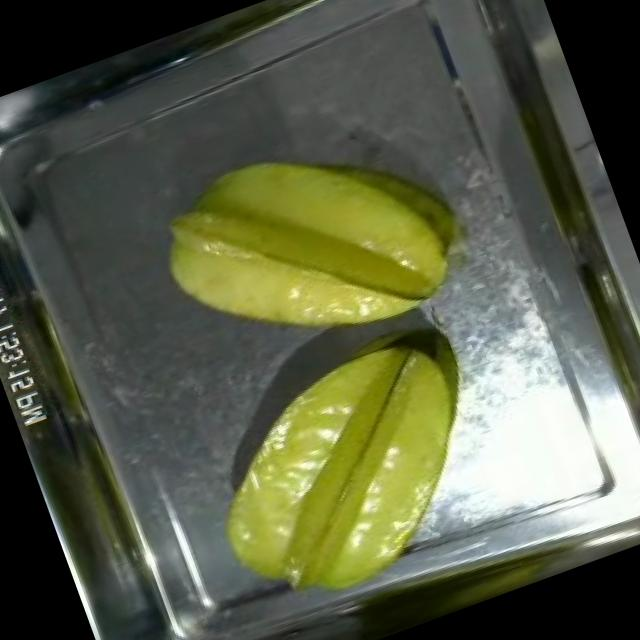fruit: (165, 308, 526, 640), (130, 94, 478, 396)
